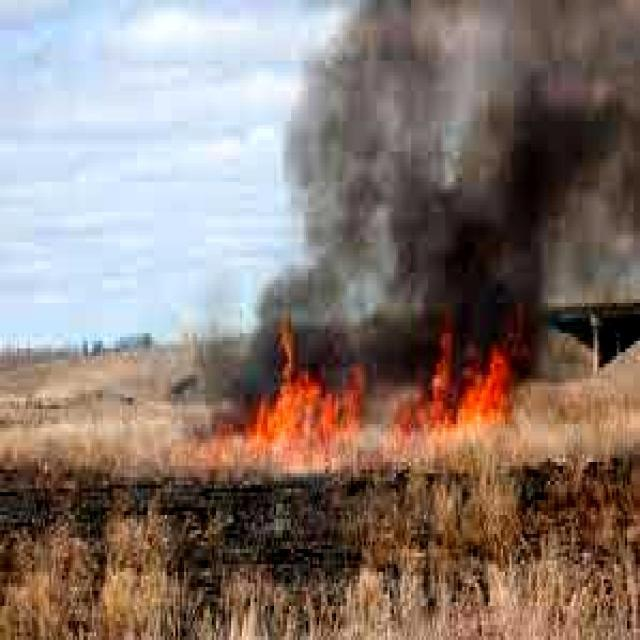Fire: (403, 350, 556, 452), (241, 342, 385, 449)
Smoke: (213, 10, 640, 352)
